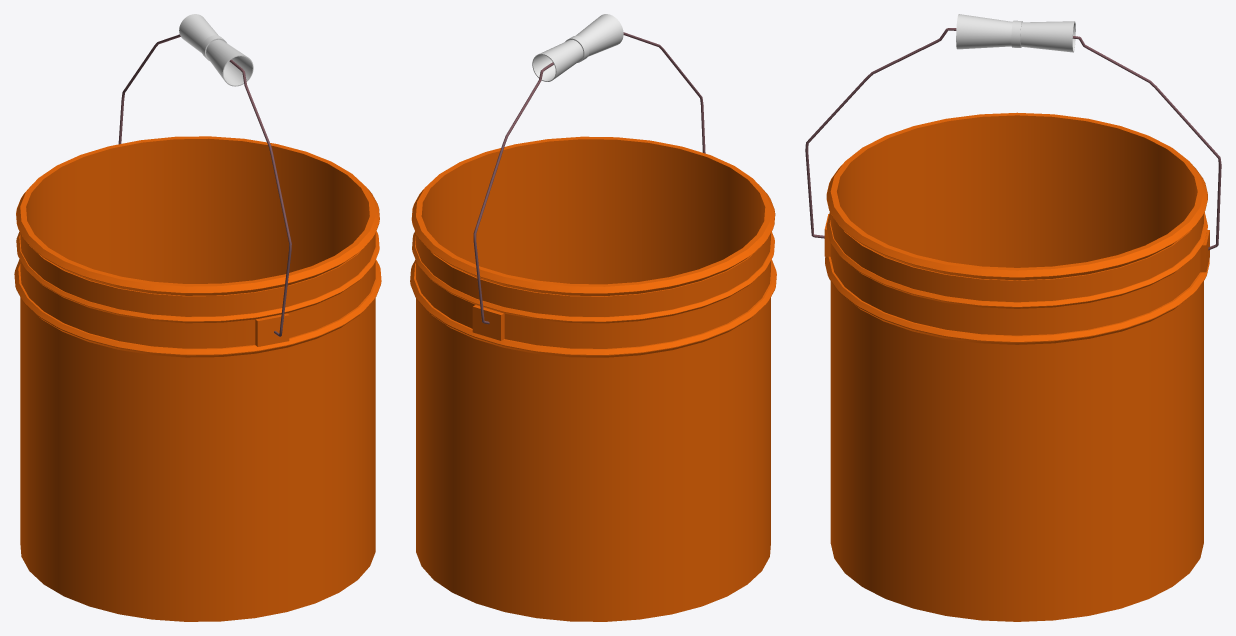
Rendered from Homedepot Bucket.fbx.
The picture shows the model from 3 angles, left to right: view 1: azimuth 30°, elevation 25°; view 2: azimuth 150°, elevation 25°; view 3: azimuth 270°, elevation 25°; orthographic projection. The views are drawn at different scales.
Parts seen in each view (by area): view 1: Cylinder, Circle, NurbsPath; view 2: Cylinder, Circle, NurbsPath; view 3: Cylinder, Circle, NurbsPath.
Boxes of the visible parts, x1,y1,x2,y2 form: Cylinder: (14,136,381,621); Circle: (179,14,253,86); NurbsPath: (118,34,291,336); Cylinder: (410,136,776,621); Circle: (532,14,623,81); NurbsPath: (473,32,705,324); Cylinder: (824,112,1209,621); Circle: (956,14,1075,52); NurbsPath: (805,28,1221,250).
Bounding box in the file's own units: 206 × 315 × 223.
